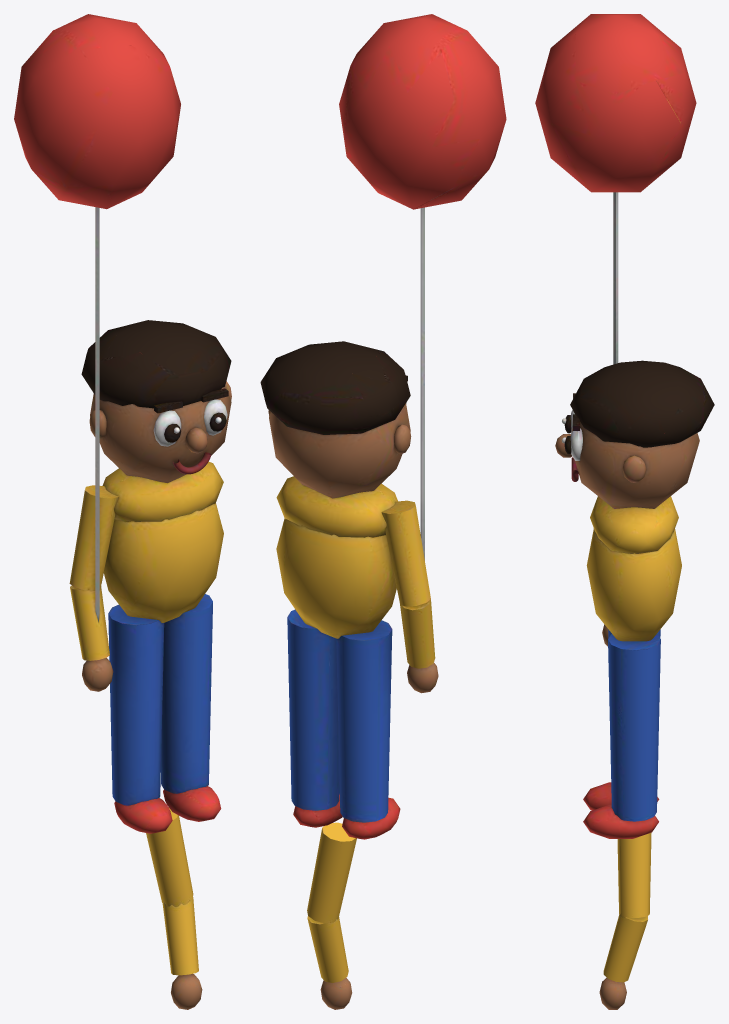
Rendered from chico.glb.
3 renders of one model, left to right at view 1: azimuth 30°, elevation 25°; view 2: azimuth 150°, elevation 25°; view 3: azimuth 270°, elevation 25°, orthographic. The views are drawn at different scales.
Parts seen in each view (by area): view 1: chico_cuerpo, chico_brazo; view 2: chico_cuerpo, chico_brazo; view 3: chico_cuerpo, chico_brazo.
Part boxes in pixels (left/top/right/bottom): chico_cuerpo: left=14, top=14, right=231, bottom=833; chico_brazo: left=146, top=808, right=202, bottom=1009; chico_cuerpo: left=260, top=14, right=506, bottom=839; chico_brazo: left=307, top=822, right=356, bottom=1009; chico_cuerpo: left=535, top=14, right=714, bottom=838; chico_brazo: left=599, top=832, right=651, bottom=1009.
Size of the model in its own units: 0.5727 by 2.61 by 0.4451.
2 materials, 2 textured.
